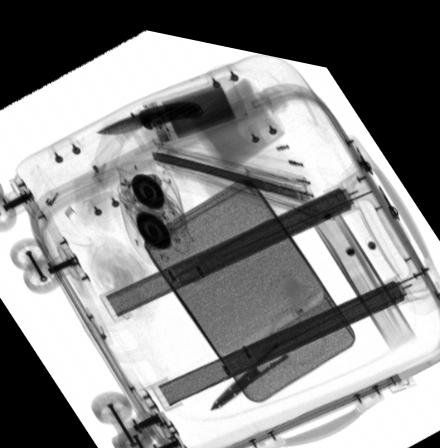Knife: (93, 93, 203, 130)
Powerbank: (139, 64, 254, 146)
Scissors: (207, 294, 328, 402)
